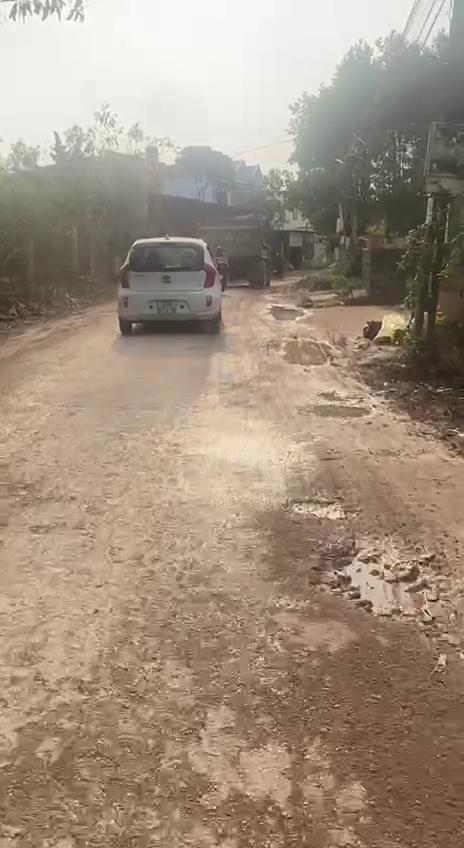pothole: (310, 542, 464, 648), (276, 337, 338, 369), (286, 494, 348, 523), (304, 402, 375, 424), (267, 304, 311, 323)
